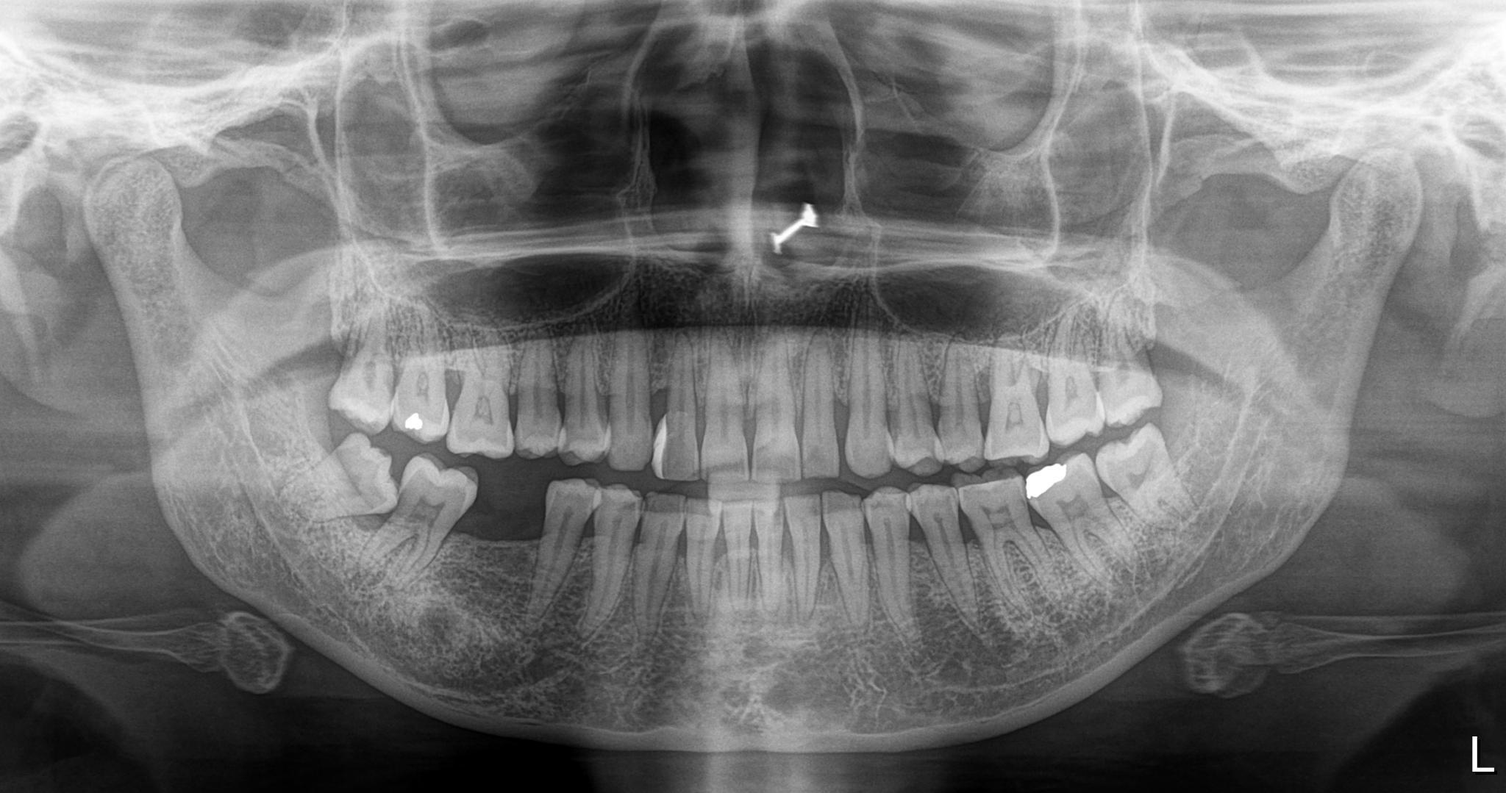Endodontically Treated Tooth: (401, 340, 442, 449)
Impacted Third Molar: (313, 446, 398, 523), (1105, 448, 1207, 508)
Missing Tooth: (474, 476, 548, 592)
